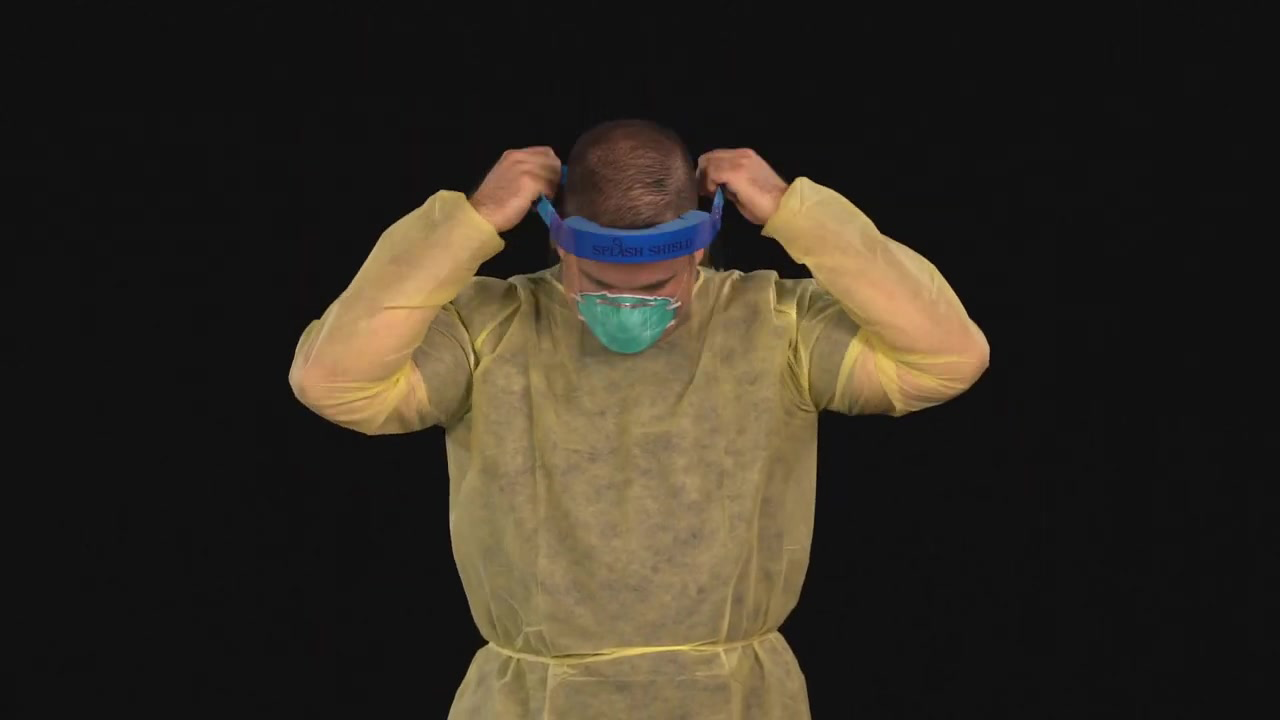Coverall: (307, 212, 961, 720)
Face_Shield: (515, 191, 732, 361)
with_mask: (575, 280, 690, 356)
